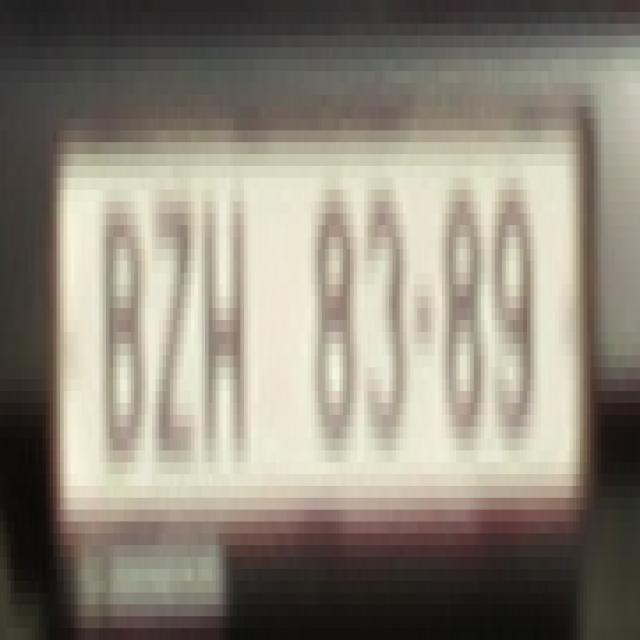3: (357, 190, 410, 438)
8: (307, 190, 353, 438), (438, 190, 484, 438)
9: (488, 178, 534, 450)
B: (102, 202, 148, 462)
H: (198, 190, 251, 474)
Z: (148, 190, 191, 474)
